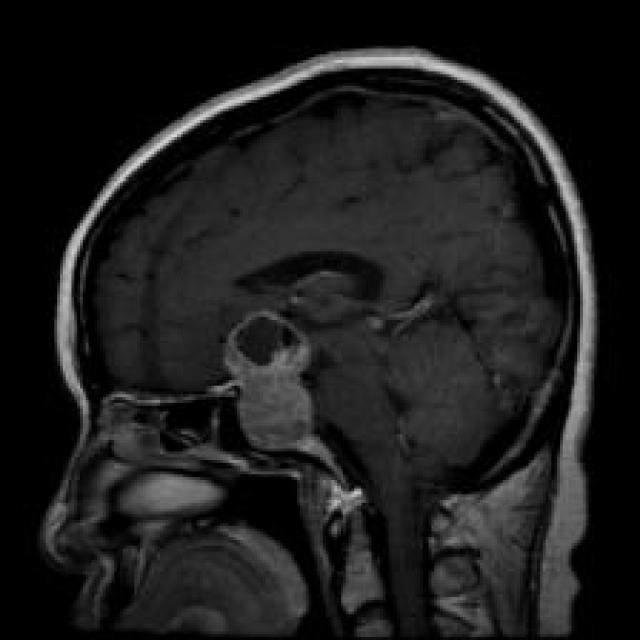pituitary_tumor: (211, 298, 341, 481)
